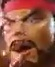ryu: (0, 0, 53, 66)
